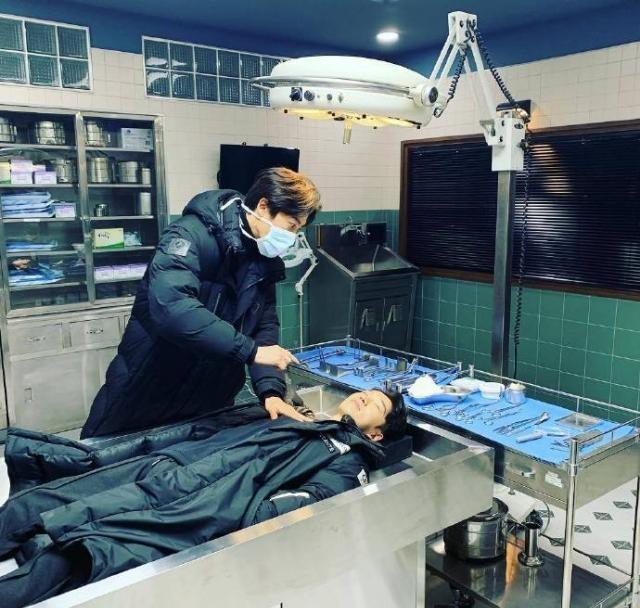bending: (80, 166, 324, 419)
down: (1, 374, 431, 597)
